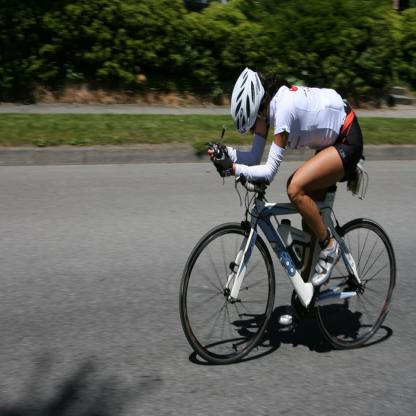Helmet: (231, 72, 267, 133)
